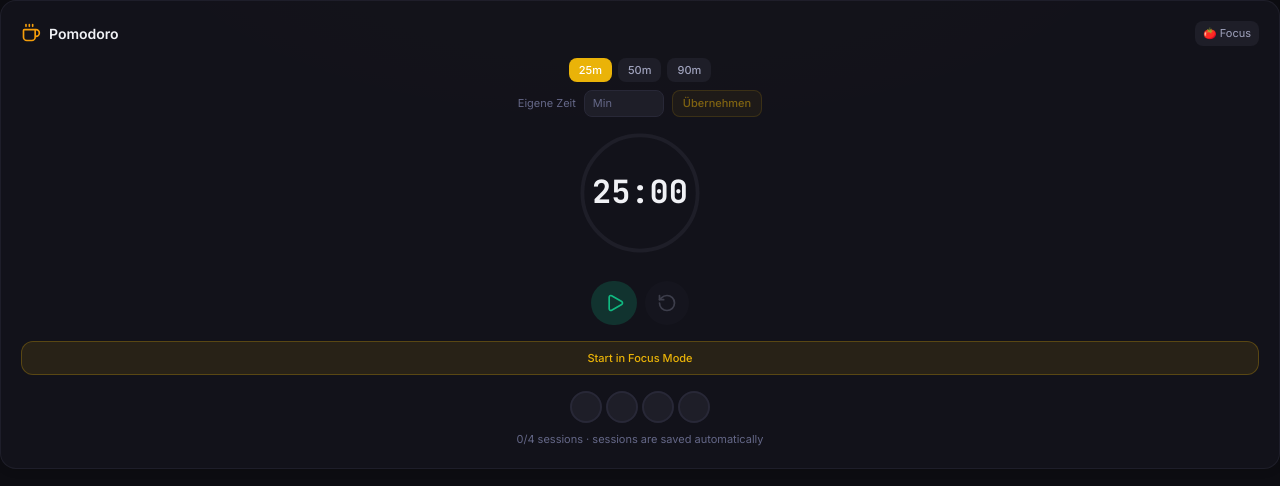
Test case: PomodoroTimer › selecting a duration updates ready timer
The image size is (1280, 486).
Click the button "50m": (640, 70) [618,58,661,82]
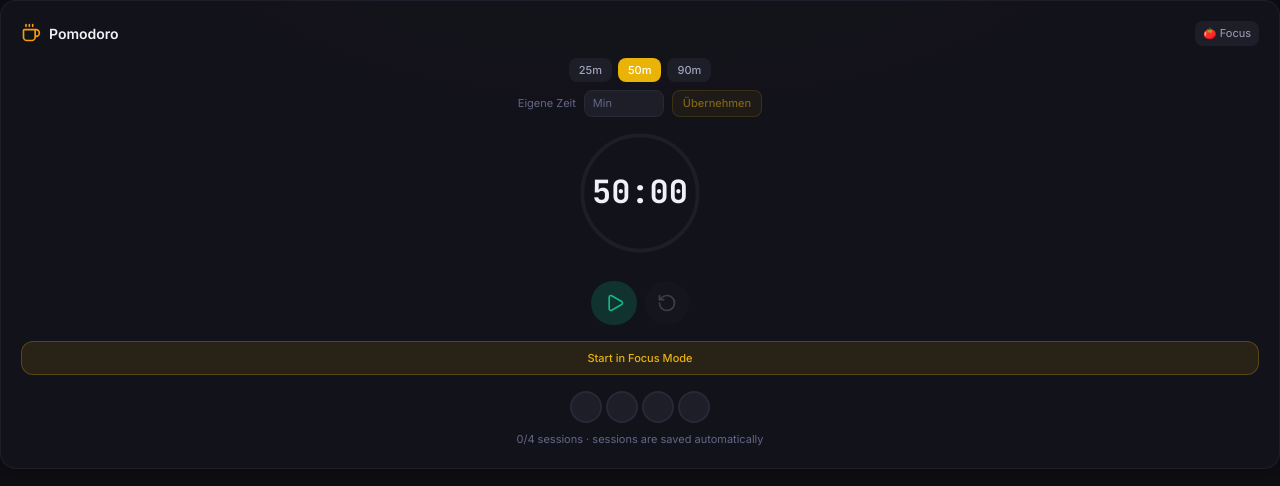
Now the text "50:00" is shown, box [592,173,688,212]
Now the element named "focus timer: 50:00 remaining" is shown, box [21,128,1259,256]
